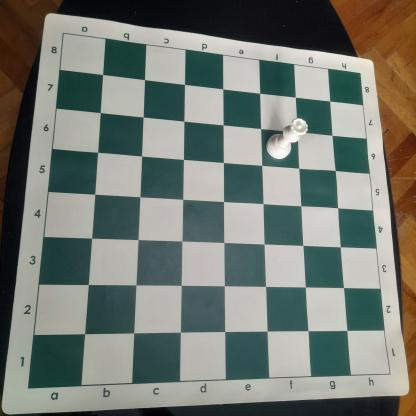white-queen: (265, 117, 309, 160)
